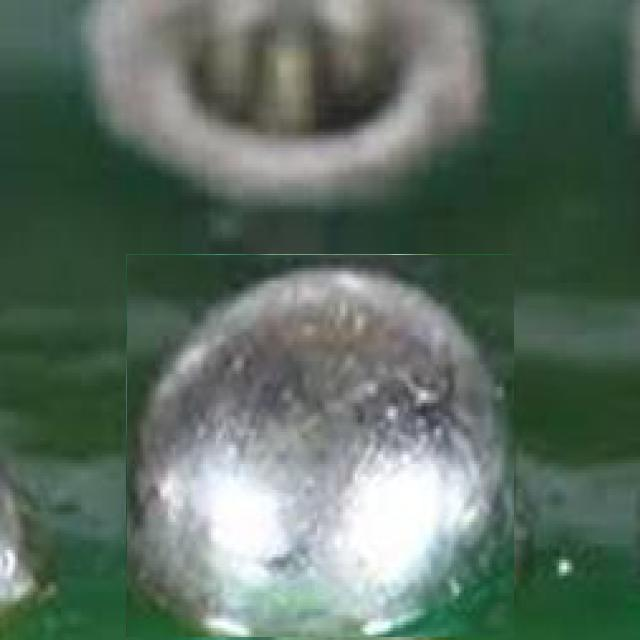slug: (126, 254, 514, 637)
